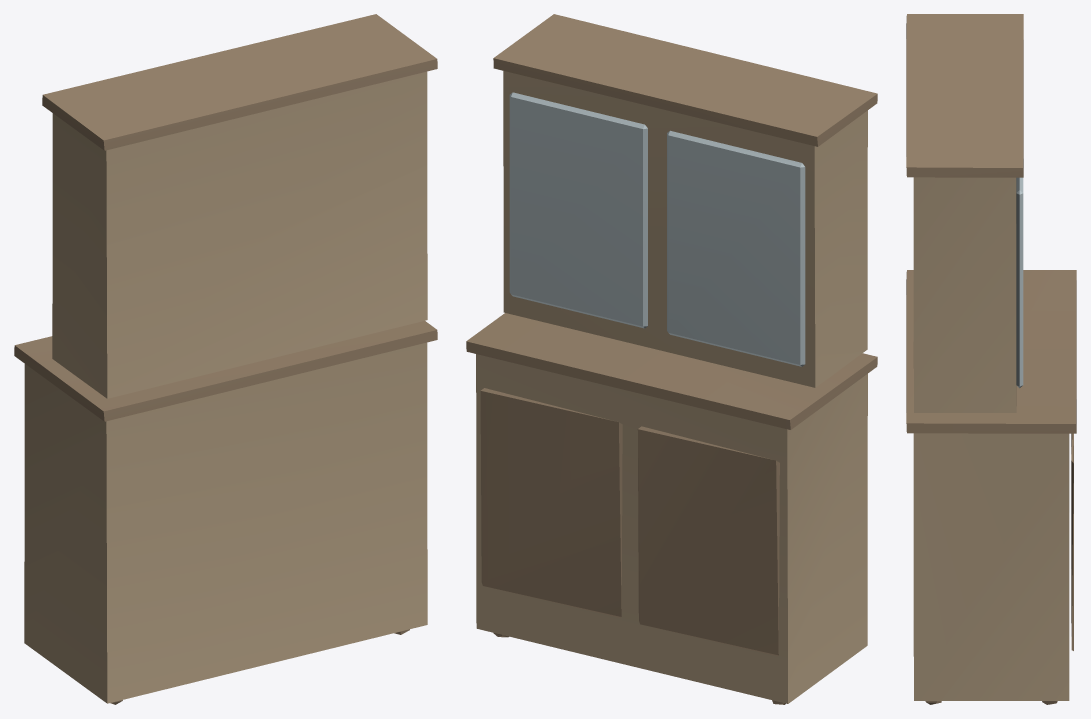
Rendered from furn_cupboard__oak_low.glb.
3 renders of one model, left to right at view 1: azimuth 30°, elevation 25°; view 2: azimuth 150°, elevation 25°; view 3: azimuth 270°, elevation 25°, orthographic. The views are drawn at different scales.
Bounding box in the file's own units: 1.03 × 1.71 × 0.4817.
